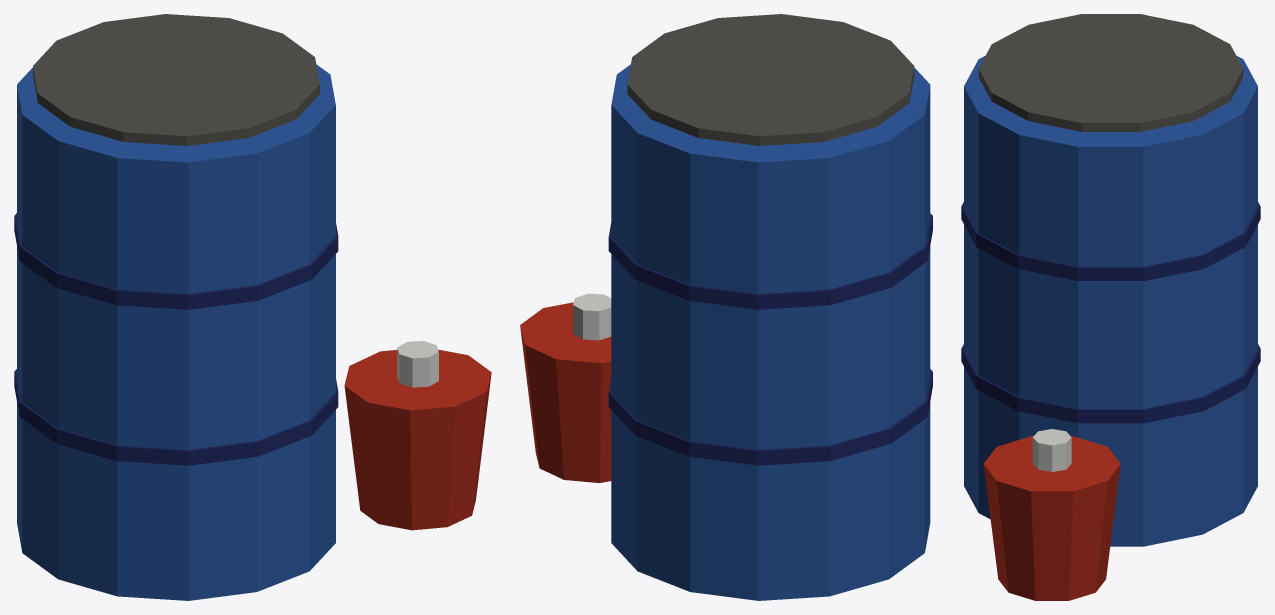
File: prop_water-drum.a09b04badeed.glb
3 views of the same model, side by side, from view 1: azimuth 30°, elevation 25°; view 2: azimuth 150°, elevation 25°; view 3: azimuth 270°, elevation 25° (orthographic). The views are drawn at different scales.
Parts seen in each view (by area): view 1: body; view 2: body; view 3: body.
Part boxes in pixels (left/top/right/bottom): body: left=14, top=14, right=491, bottom=600; body: left=520, top=14, right=932, bottom=600; body: left=961, top=14, right=1260, bottom=600.
Bounding box in the file's own units: 0.8805 × 0.94 × 0.61.
